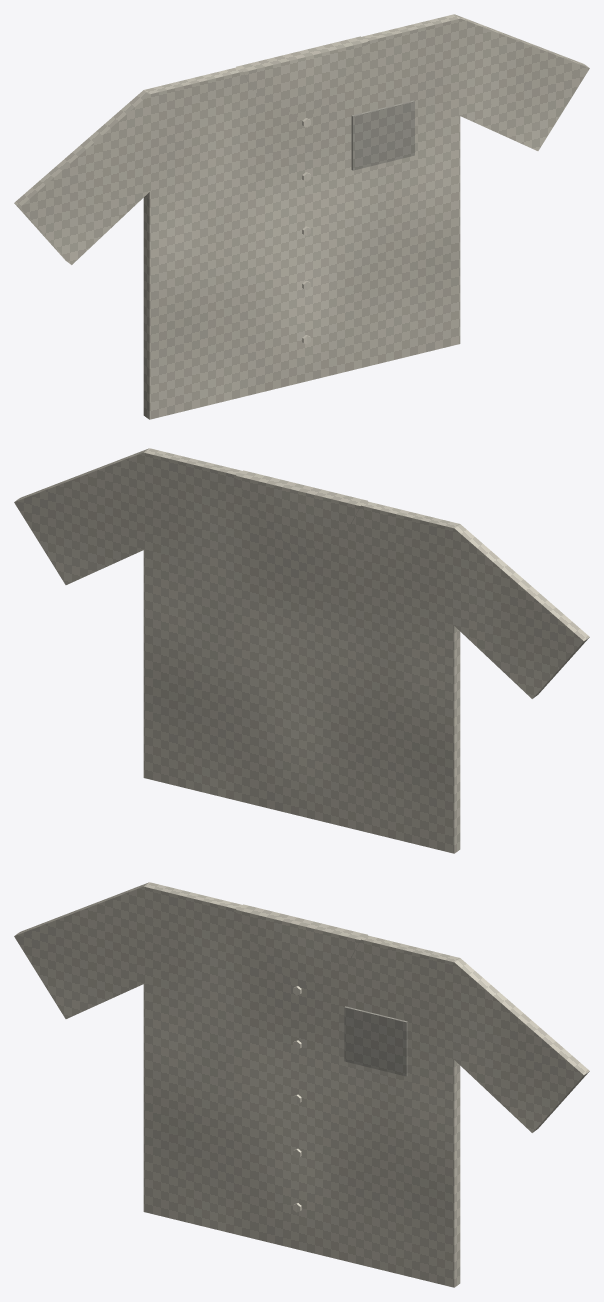
File: clothes_shirt.glb
The picture shows the model from 3 angles, top to bottom: view 1: azimuth 30°, elevation 25°; view 2: azimuth 150°, elevation 25°; view 3: azimuth 330°, elevation 25°; orthographic projection.
Visible parts, largest first — view 1: clothes_shirt; view 2: clothes_shirt; view 3: clothes_shirt.
Boxes of the visible parts, bbox=[...] form: clothes_shirt: bbox=[14, 14, 589, 419]; clothes_shirt: bbox=[14, 448, 589, 853]; clothes_shirt: bbox=[14, 882, 589, 1287].
Size of the model in its own units: 1.1 by 0.6 by 0.0305.
Materials: 3 (3 with a texture image).
